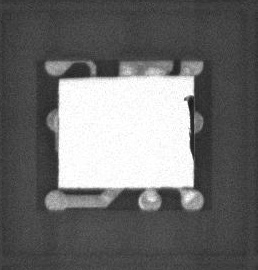DIE_BROKEN: (182, 93, 197, 161)
